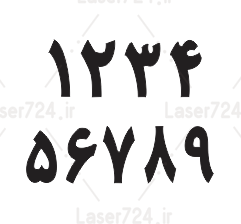character: (119, 32, 165, 107), (165, 32, 207, 109), (99, 122, 141, 193), (59, 123, 100, 193), (181, 121, 220, 194), (79, 32, 117, 105), (141, 122, 179, 193), (23, 122, 59, 192), (46, 35, 77, 105)
